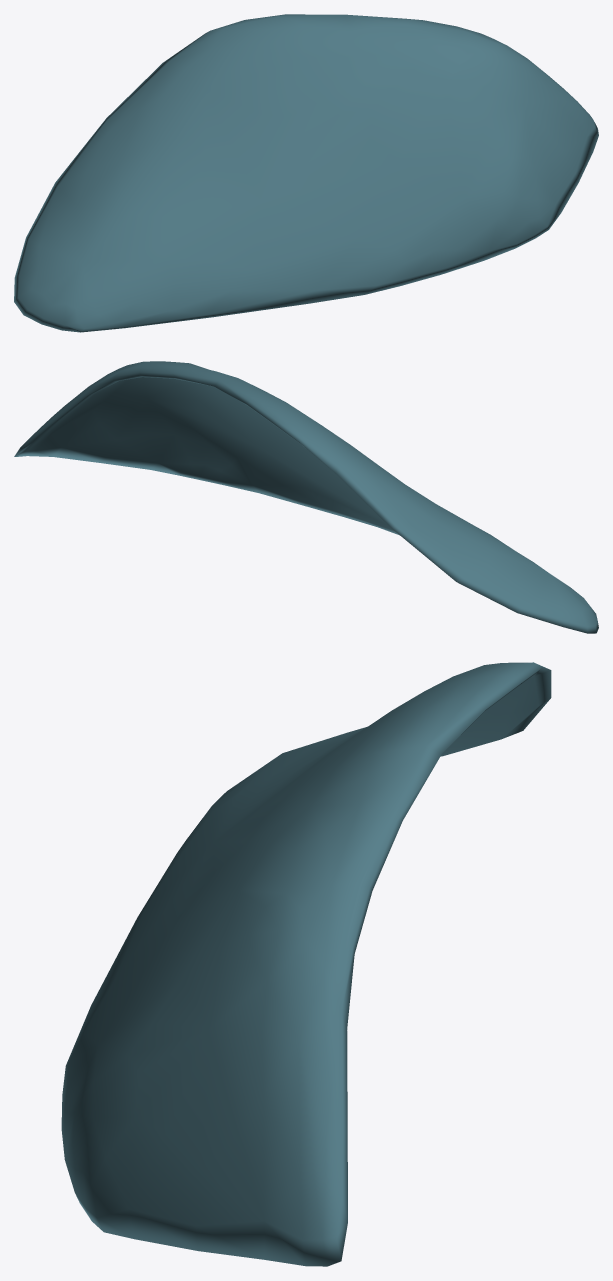
File: Quadriceps_femoris_base_patella_left.glb
3 renders of one model, top to bottom at view 1: azimuth 30°, elevation 25°; view 2: azimuth 150°, elevation 25°; view 3: azimuth 270°, elevation 25°, orthographic. The views are drawn at different scales.
Visible parts, largest first — view 1: Quadriceps_femoris_on_base_of_patella.l_Generated_Mesh_From_; view 2: Quadriceps_femoris_on_base_of_patella.l_Generated_Mesh_From_; view 3: Quadriceps_femoris_on_base_of_patella.l_Generated_Mesh_From_.
Part boxes in pixels (x1=…): Quadriceps_femoris_on_base_of_patella.l_Generated_Mesh_From_: x1=14, y1=14, x2=598, y2=332; Quadriceps_femoris_on_base_of_patella.l_Generated_Mesh_From_: x1=14, y1=361, x2=598, y2=633; Quadriceps_femoris_on_base_of_patella.l_Generated_Mesh_From_: x1=61, y1=662, x2=551, y2=1266.
Bounding box in the file's own units: 0.0374 × 0.0124 × 0.0138.
